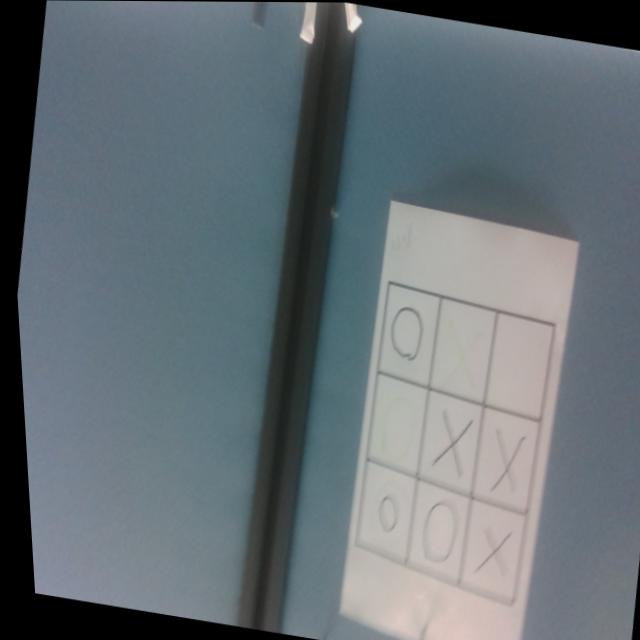null: (476, 310, 556, 421)
o: (408, 499, 457, 566), (371, 394, 416, 462), (380, 304, 423, 363), (368, 494, 397, 536)
table: (331, 275, 568, 610)
x: (409, 388, 478, 480), (428, 308, 486, 389), (480, 429, 525, 499), (464, 520, 511, 580)
